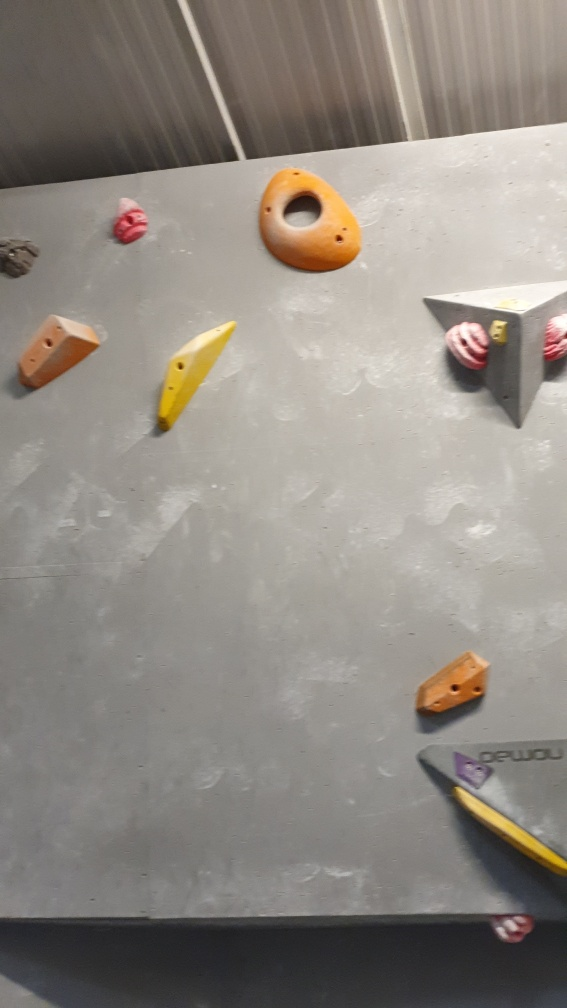Jug: (442, 320, 494, 376), (1, 223, 38, 279), (114, 193, 152, 245)
Pinch: (153, 313, 239, 437), (16, 314, 101, 397), (417, 650, 491, 719)
Pocket: (254, 169, 368, 275)
